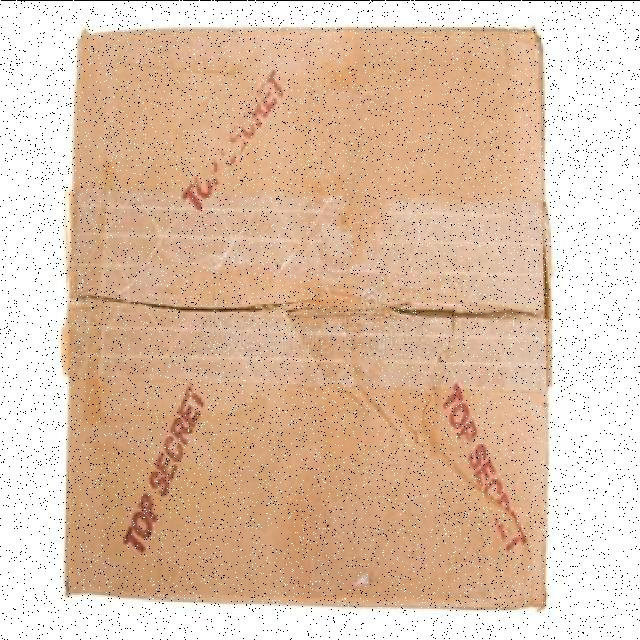normal: (68, 23, 558, 609)
